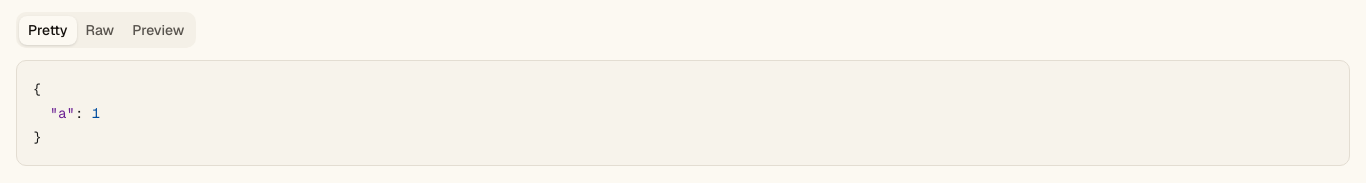
shows highlighted Pretty by default and toggles to byte-exact Raw and back
Expected: the element with class "shiki" is shown, left=33, top=80, right=100, bottom=146
Step 1. Click the tab "Raw" → (100, 30), box left=76, top=16, right=123, bottom=44
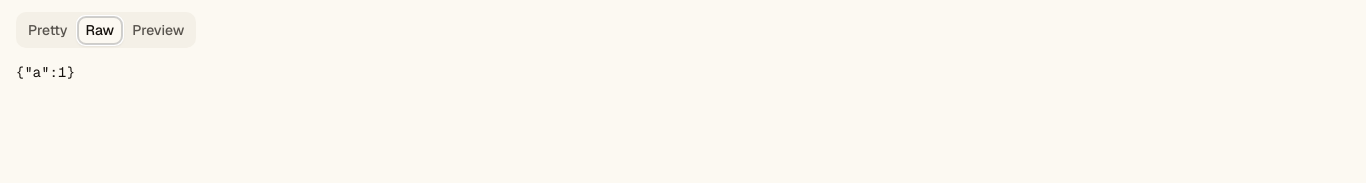
Expected: the text "{\"a\":1}" is shown, left=16, top=63, right=75, bottom=81
Step 2. Click the tab "Pretty" → (48, 30), box left=19, top=16, right=76, bottom=44
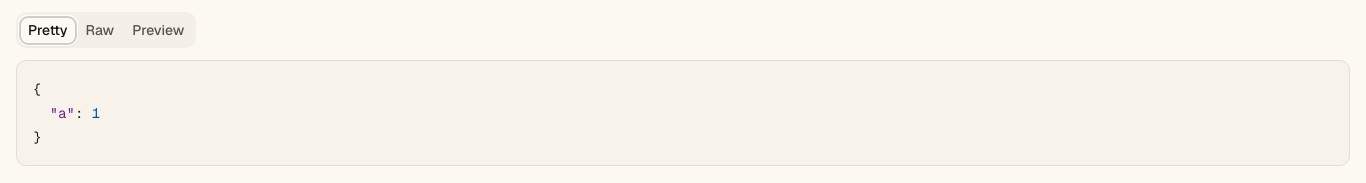
Expected: the element with class "shiki" is shown, left=33, top=80, right=100, bottom=146
